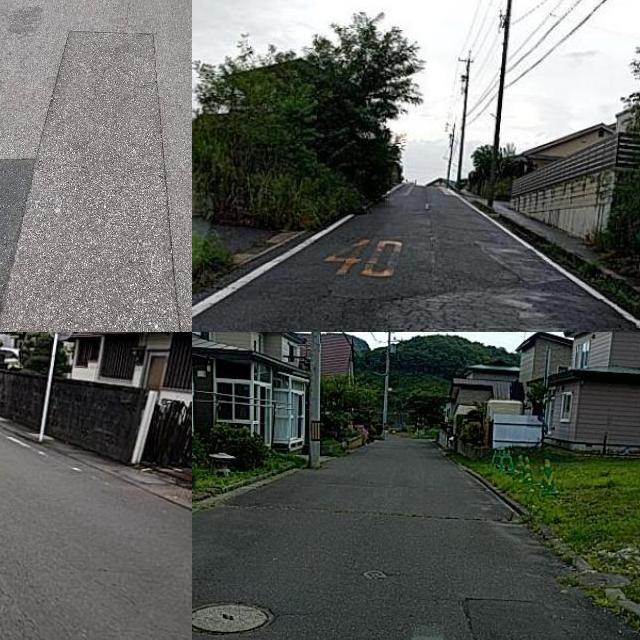Lubang: (192, 603, 270, 634)
Sambungan: (0, 32, 182, 332), (463, 599, 571, 640)
